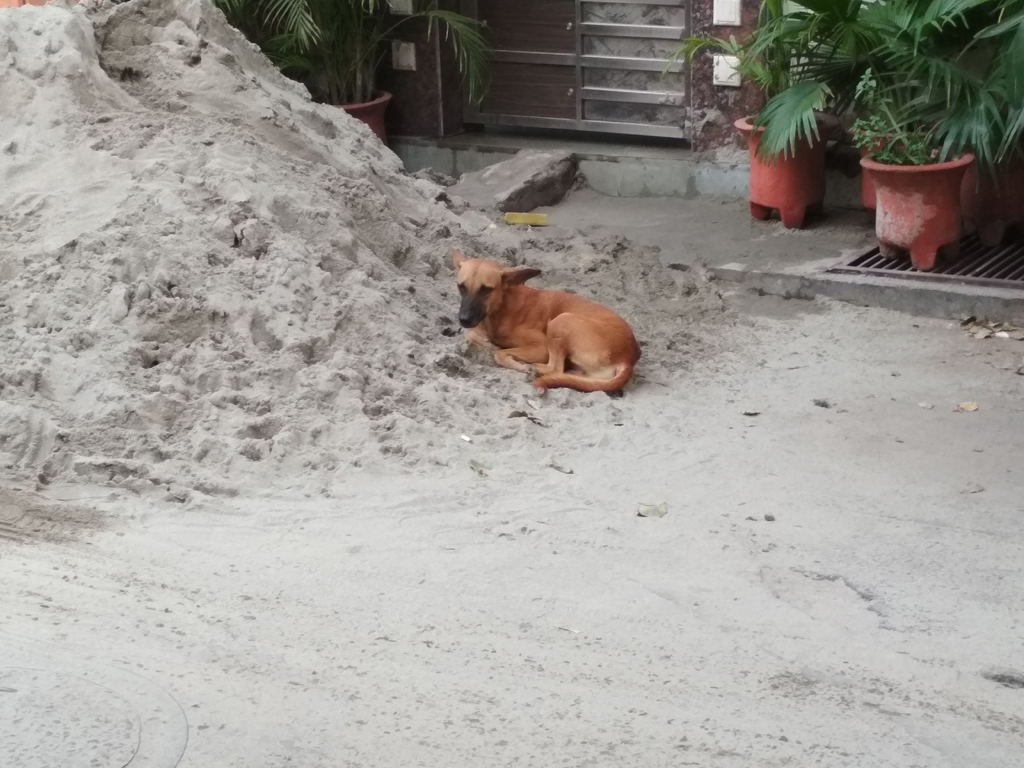dog: (448, 248, 642, 397)
